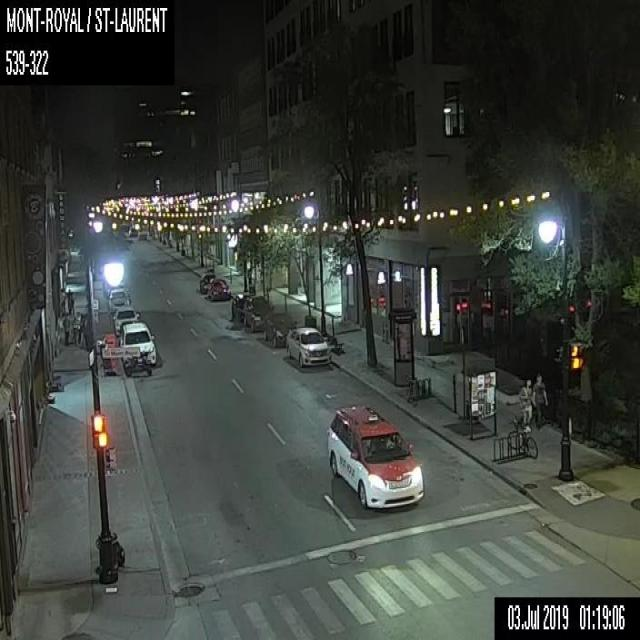pedestrian: (518, 377, 534, 432), (532, 372, 547, 428), (78, 314, 86, 344), (62, 313, 69, 344), (71, 316, 78, 346), (66, 288, 73, 312)
vehicle: (326, 402, 423, 510), (286, 325, 331, 368), (119, 321, 156, 364), (242, 294, 275, 332), (262, 312, 296, 346), (113, 306, 138, 335), (230, 292, 254, 321), (122, 352, 152, 374), (108, 286, 129, 310), (207, 277, 229, 298), (199, 272, 216, 290), (137, 230, 145, 238), (128, 226, 136, 234)
